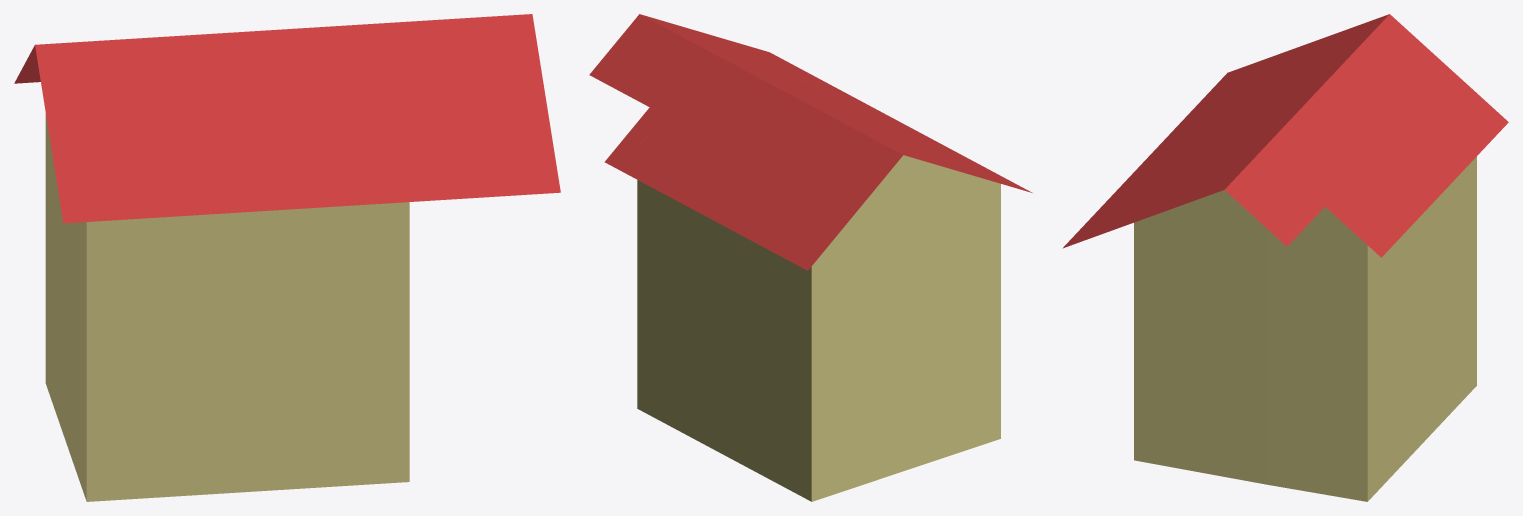
3 views of the same model, side by side, from view 1: azimuth 30°, elevation 25°; view 2: azimuth 150°, elevation 25°; view 3: azimuth 270°, elevation 25° (orthographic). The views are drawn at different scales.
Bounding box in the file's own units: 10.24 × 9.05 × 7.73.
